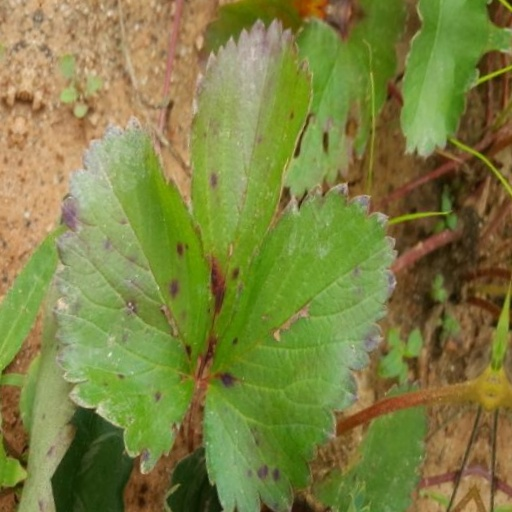Leaf Spot: (288, 137, 458, 491), (112, 167, 283, 511), (228, 17, 346, 383), (402, 323, 454, 511)
